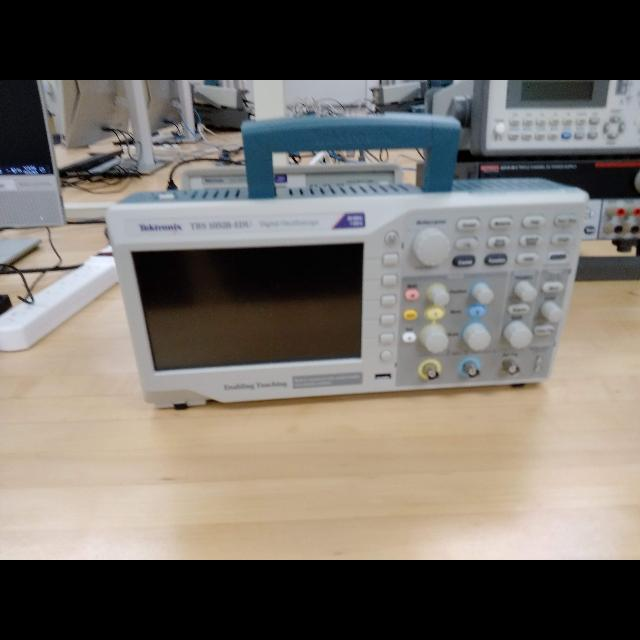Digital-Oscilloscope: (110, 196, 590, 403)
